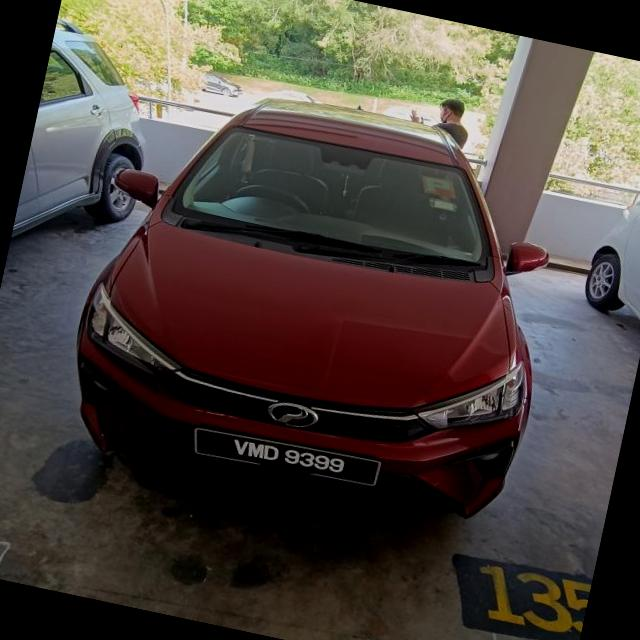PeroduaBezza: (51, 59, 584, 542)
